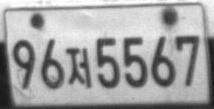5: (94, 36, 121, 89), (122, 36, 149, 88)
6: (150, 35, 176, 87), (40, 38, 65, 89)
7: (176, 35, 200, 87)
9: (11, 38, 36, 89)
저: (65, 46, 92, 88)
